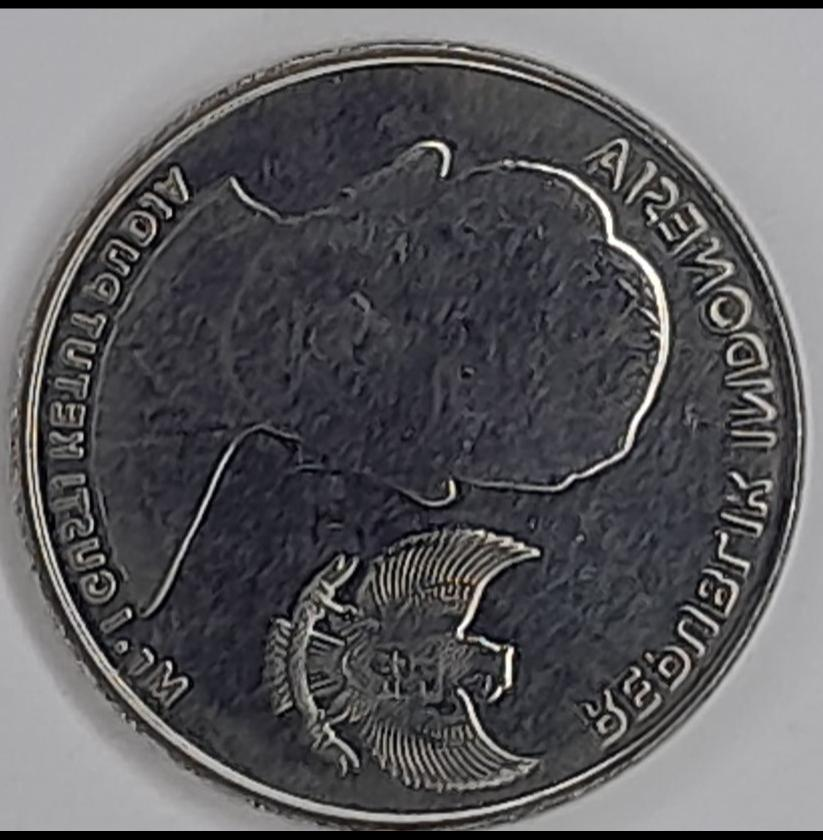coin_1000_e2016: (14, 17, 812, 840)
